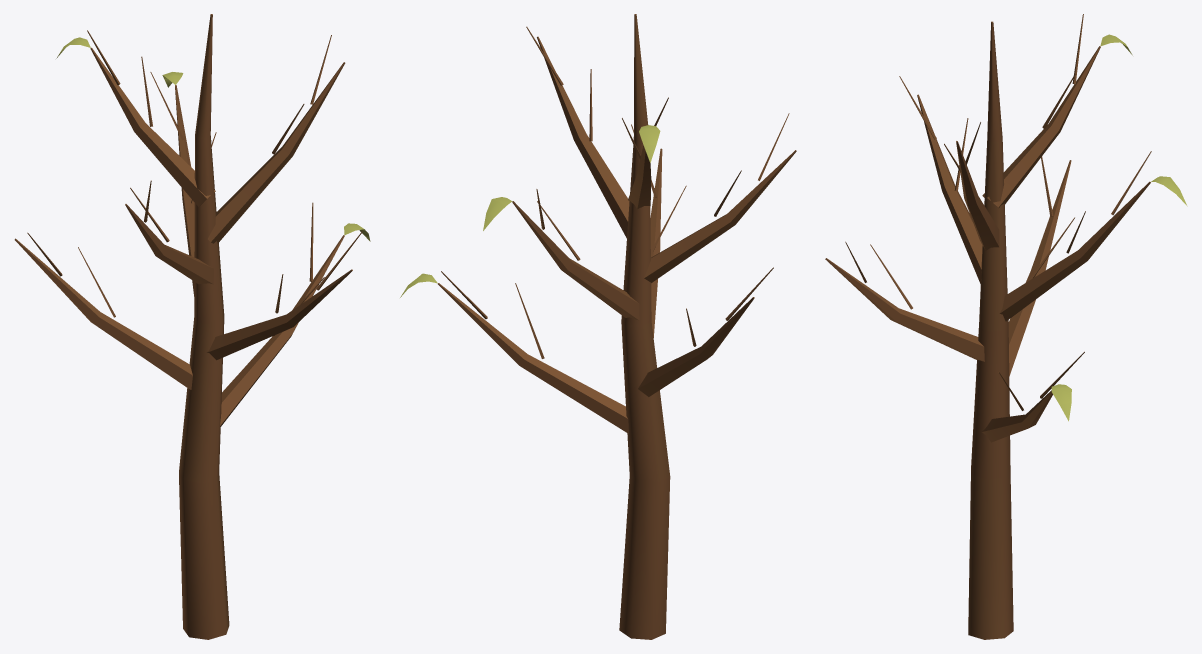
The model's file is crop_apple_tree_withered.glb.
3 views of the same model, side by side, from view 1: azimuth 30°, elevation 25°; view 2: azimuth 150°, elevation 25°; view 3: azimuth 270°, elevation 25° (orthographic).
Parts seen in each view (by area): view 1: apple_b_0, apple_last_leaf_0; view 2: apple_b_0, apple_last_leaf_0; view 3: apple_b_0, apple_last_leaf_0.
Part boxes in pixels (bbox=[...]): apple_b_0: bbox=[14, 14, 362, 639]; apple_last_leaf_0: bbox=[56, 37, 370, 241]; apple_b_0: bbox=[438, 14, 796, 639]; apple_last_leaf_0: bbox=[400, 125, 660, 297]; apple_b_0: bbox=[825, 14, 1151, 639]; apple_last_leaf_0: bbox=[1051, 34, 1187, 421].
Size of the model in its own units: 1.72 by 2.81 by 1.51.
